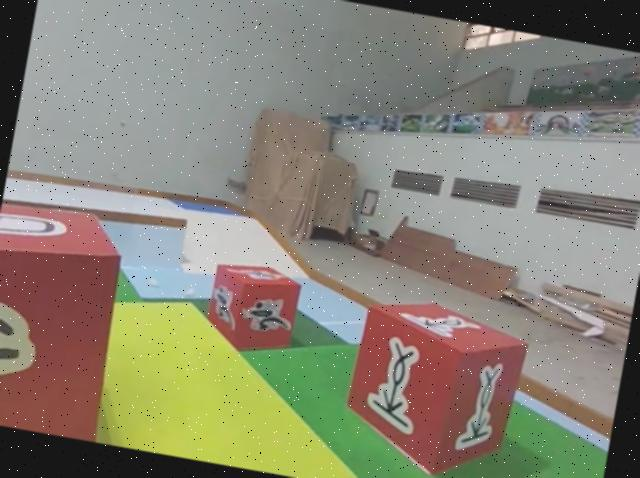R1: (199, 255, 306, 361)
R2 Fake: (0, 192, 138, 442)
R2 Real: (333, 284, 536, 478)
